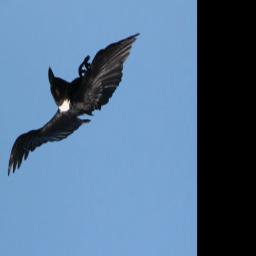Crow: (6, 32, 141, 180)
